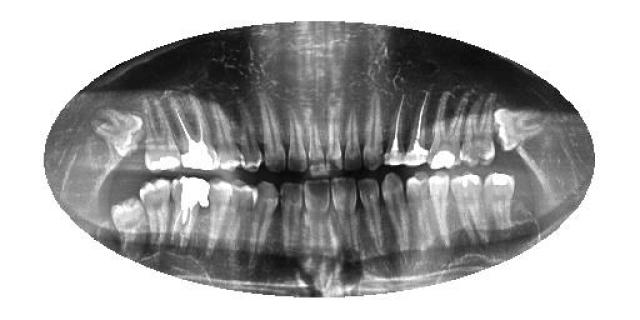Fillings: (428, 89, 470, 169), (169, 175, 210, 253), (142, 99, 180, 171), (449, 171, 486, 244), (485, 171, 516, 239)
Implant: (168, 92, 220, 172), (405, 86, 429, 172), (385, 92, 409, 166)
Restorations: (92, 106, 146, 160), (493, 105, 545, 153)
